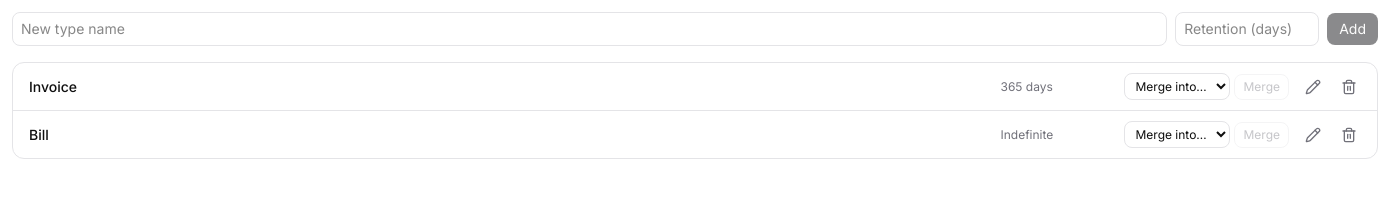
Scenario: DocumentTypeManager › shows an inline error on duplicate name without crashing
Expected: the button named "Edit Invoice" is shown, left=1301, top=74, right=1325, bottom=98
Type "Invoice" into the field with placeholder "New type name".
click(590, 29); type("Invoice")  # box left=12, top=12, right=1167, bottom=46
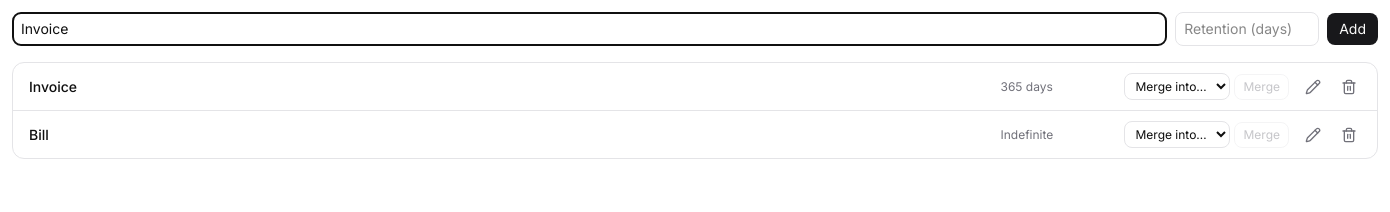
Click the button "Add".
click(1353, 29)  # box left=1327, top=13, right=1378, bottom=45
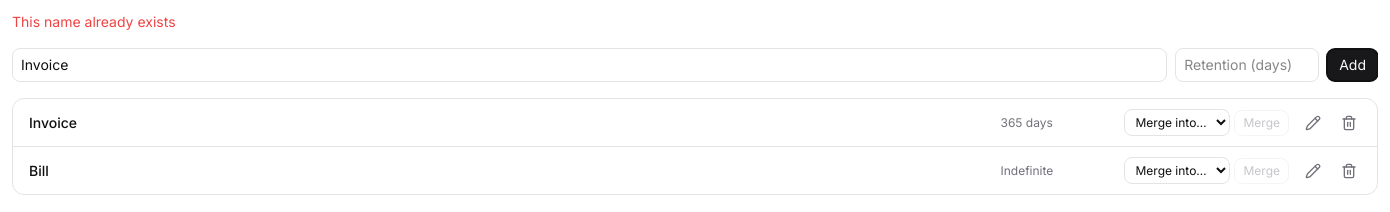
Now the text "This name already exists" is shown, box left=12, top=13, right=176, bottom=30
